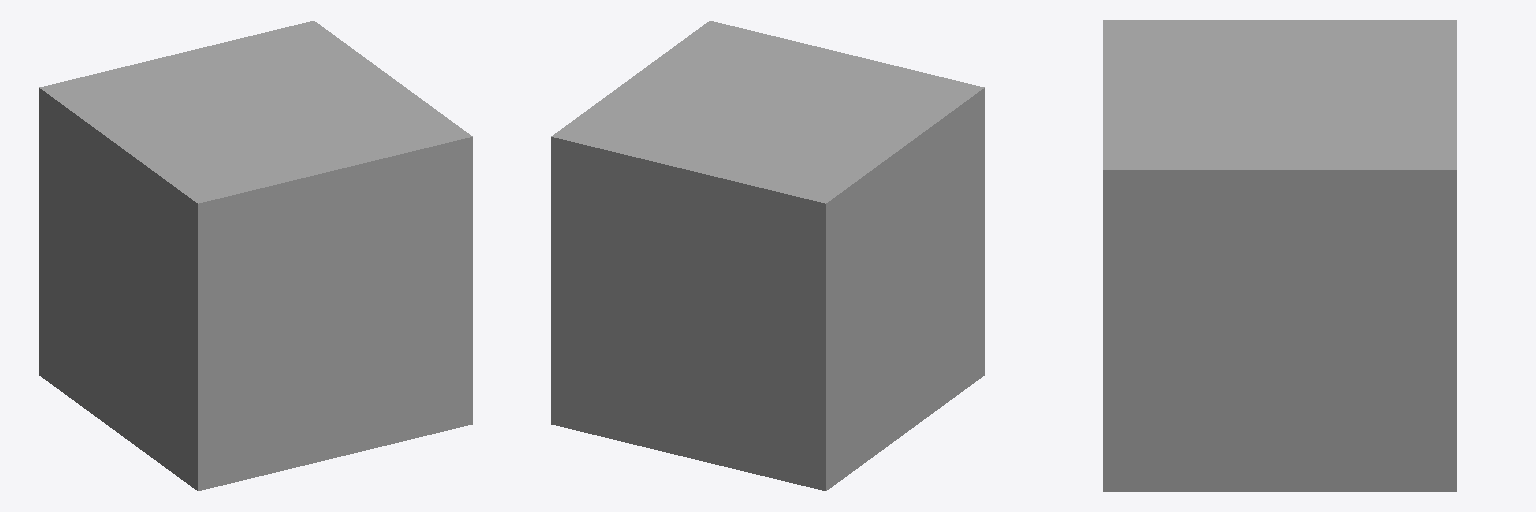
URDF robot description (dynaarm):
<?xml version="1.0" ?>
<!-- =================================================================================== -->
<!-- |    This document was autogenerated by xacro from [local-path]/duatic/dev-workspace/src/dynaarm_description/dynaarm_standalone_description/resource/urdf/../xacro/dynaarm_standalone.urdf.xacro | -->
<!-- |    EDITING THIS FILE BY HAND IS NOT RECOMMENDED                                 | -->
<!-- =================================================================================== -->
<robot name="dynaarm">
  <link name="world"/>
  <joint name="joint_base" type="fixed">
    <parent link="world"/>
    <child link="dynaarm_base"/>
    <origin rpy="0 0 0" xyz="0 0 0.085"/>
    <limit effort="2000" lower="0" upper="0" velocity="0"/>
  </joint>
  <link name="dynaarm_base">
    <visual>
      <geometry>
        <mesh filename="file://[local-path]/duatic/dev-workspace/install/dynaarm_description_common/share/dynaarm_description_common/resource/meshes/base_detailed_mesh.dae" scale="1.0 1.0 1.0"/>
      </geometry>
    </visual>
    <inertial>
      <mass value="1.894"/>
      <origin rpy="0 0 0" xyz="8.222640999999999e-06 -0.000310936808 -0.036738569268"/>
      <inertia ixx="0.0027672584741849997" ixy="3.9341411499999997e-07" ixz="-1.49570272e-07" iyy="0.0028951601054409996" iyz="2.532409214e-05" izz="0.003138952392041"/>
    </inertial>
  </link>
  <!-- Fixed joint to add dummy inertia link -->
  <joint name="dynaarm_base_to_dynaarm_base_inertia" type="fixed">
    <parent link="dynaarm_base"/>
    <child link="dynaarm_base_inertia"/>
    <origin rpy="0 0 0" xyz="0 0 0"/>
  </joint>
  <!-- Dummy inertia link, because KDL cannot have inertia on the base link -->
  <link name="dynaarm_base_inertia">
    <inertial>
      <mass value="1.894"/>
      <origin rpy="0 0 0" xyz="8.222640999999999e-06 -0.000310936808 -0.036738569268"/>
      <inertia ixx="0.0027672584741849997" ixy="3.9341411499999997e-07" ixz="-1.49570272e-07" iyy="0.0028951601054409996" iyz="2.532409214e-05" izz="0.003138952392041"/>
    </inertial>
  </link>
  <link name="dynaarm_SHOULDER">
    <visual>
      <geometry>
        <mesh filename="file://[local-path]/duatic/dev-workspace/install/dynaarm_description_common/share/dynaarm_description_common/resource/meshes/shoulder_detailed_mesh.dae" scale="1.0 1.0 1.0"/>
      </geometry>
    </visual>
    <inertial>
      <mass value="2.644"/>
      <origin rpy="0 0 0" xyz="0.0 0.0 -0.0017336"/>
      <inertia ixx="0.010301209999999998" ixy="-5.0849999999999996e-05" ixz="0.0" iyy="0.0030164999999999997" iyz="0.0" izz="0.01009904"/>
    </inertial>
    <collision>
      <origin rpy="1.57 0 0" xyz="0 0 0"/>
      <geometry>
        <cylinder length="0.24" radius="0.05"/>
      </geometry>
    </collision>
  </link>
  <link name="dynaarm_UPPERARM">
    <visual>
      <geometry>
        <mesh filename="file://[local-path]/duatic/dev-workspace/install/dynaarm_description_common/share/dynaarm_description_common/resource/meshes/upperarm_detailed_mesh.dae" scale="1.0 1.0 1.0"/>
      </geometry>
    </visual>
    <inertial>
      <mass value="1.394"/>
      <origin rpy="0 0 0" xyz="0.21109 2.2e-05 -0.000317"/>
      <inertia ixx="0.00116179" ixy="-7.2e-07" ixz="-0.00014044999999999997" iyy="0.046092126" iyz="7e-09" izz="0.04627953"/>
    </inertial>
    <collision>
      <origin rpy="1.57 0 1.57" xyz="0.25 0 0"/>
      <geometry>
        <cylinder length="0.4" radius="0.05"/>
      </geometry>
    </collision>
  </link>
  <link name="dynaarm_ELBOW">
    <visual>
      <geometry>
        <mesh filename="file://[local-path]/duatic/dev-workspace/install/dynaarm_description_common/share/dynaarm_description_common/resource/meshes/elbow_detailed_mesh.dae" scale="1.0 1.0 1.0"/>
      </geometry>
    </visual>
    <inertial>
      <mass value="1.1"/>
      <origin rpy="0 0 0" xyz="0.0068 -0.0848 -0.0006"/>
      <inertia ixx="0.0013843" ixy="-4.16e-05" ixz="8.5e-06" iyy="0.0007168" iyz="-1.05e-05" izz="0.0011300999999999998"/>
    </inertial>
    <collision>
      <origin rpy="0 1.57 0" xyz="0.185 -0.0935 0"/>
      <geometry>
        <cylinder length="0.46" radius="0.047"/>
      </geometry>
    </collision>
  </link>
  <link name="dynaarm_FOREARM">
    <visual>
      <geometry>
        <mesh filename="file://[local-path]/duatic/dev-workspace/install/dynaarm_description_common/share/dynaarm_description_common/resource/meshes/forearm_detailed_mesh.dae" scale="1.0 1.0 1.0"/>
      </geometry>
    </visual>
    <inertial>
      <mass value="0.342"/>
      <origin rpy="0 0 0" xyz="0.0 0.0 0.2143"/>
      <inertia ixx="0.006999999999999999" ixy="0.0" ixz="0.0" iyy="0.006999999999999999" iyz="0.0" izz="0.0063999999999999994"/>
    </inertial>
  </link>
  <joint name="SH_ROT" type="revolute">
    <parent link="dynaarm_base"/>
    <child link="dynaarm_SHOULDER"/>
    <axis xyz="0 0 1"/>
    <limit command_effort="40" current="10" effort="40" gear_velocity="4" lower="-4.7123889803850005" upper="4.7123889803850005" velocity="4"/>
    <!-- limit effort also defines torque limit and freeze controller gains -->
    <origin rpy="0 0 0" xyz="0 0 0.06"/>
  </joint>
  <joint name="SH_FLE" type="revolute">
    <parent link="dynaarm_SHOULDER"/>
    <child link="dynaarm_UPPERARM"/>
    <axis xyz="0 0 -1"/>
    <limit command_effort="40" current="10" effort="40" gear_velocity="4" lower="-1.870796326795" upper="1.870796326795" velocity="4"/>
    <!-- limit effort also defines torque limit and freeze controller gains -->
    <origin rpy="1.570796326795 -1.570796326795 0" xyz="0 0 0.0"/>
  </joint>
  <joint name="EL_FLE" type="revolute">
    <parent link="dynaarm_UPPERARM"/>
    <child link="dynaarm_ELBOW"/>
    <axis xyz="0 0 1"/>
    <limit command_effort="40" current="10" effort="40" gear_velocity="4" lower="-3.14159265359" upper="3.14159265359" velocity="4"/>
    <!-- limit effort also defines torque limit and freeze controller gains -->
    <origin rpy="3.14159265359 0 0" xyz="0.412 0 0"/>
  </joint>
  <joint name="FA_ROT" type="revolute">
    <parent link="dynaarm_ELBOW"/>
    <child link="dynaarm_FOREARM"/>
    <axis xyz="0 0 1"/>
    <limit command_effort="40" current="10" effort="40" gear_velocity="4" lower="-4.7123889803850005" upper="4.7123889803850005" velocity="4"/>
    <!-- limit effort also defines torque limit and freeze controller gains -->
    <origin rpy="1.570796326795 0 1.570796326795" xyz="0.0325 -0.092 0"/>
  </joint>
  <link name="dynaarm_END_EFFECTOR">
    <visual>
      <origin rpy="0 0 0" xyz="0 0 0"/>
      <geometry>
        <box size="0.001 0.001 0.001"/>
      </geometry>
    </visual>
    <inertial>
      <origin rpy="0 0 0" xyz="0.0 0.0 0.0"/>
      <mass value="0.02"/>
      <inertia ixx="0.01" ixy="0.0" ixz="0.0" iyy="0.01" iyz="0.0" izz="0.01"/>
    </inertial>
  </link>
  <gazebo reference="dynaarm_END_EFFECTOR">
    <kp>10000.0</kp>
    <kd>10.0</kd>
    <mu1>0.8</mu1>
    <mu2>0.8</mu2>
  </gazebo>
  <joint name="ee_fix_joint" type="fixed">
    <parent link="dynaarm_FOREARM"/>
    <child link="dynaarm_END_EFFECTOR"/>
    <origin rpy="0.0 0.0 1.570796326795" xyz="0.0 0.0 0.25"/>
    <limit effort="2000" lower="0" upper="0" velocity="0"/>
  </joint>
  <ros2_control name="DynaarmSystem" type="system">
    <hardware>
      <plugin>dynaarm_mock_hardware_interface/DynaarmMockHardwareInterface</plugin>
    </hardware>
    <joint name="SH_ROT">
      <param name="address">1</param>
      <state_interface name="position"/>
      <state_interface name="velocity"/>
      <state_interface name="effort"/>
      <state_interface name="position_commanded"/>
      <state_interface name="velocity_commanded"/>
      <state_interface name="effort_commanded"/>
      <state_interface name="p_gain_commanded"/>
      <state_interface name="i_gain_commanded"/>
      <state_interface name="d_gain_commanded"/>
      <state_interface name="motor_position"/>
      <state_interface name="motor_velocity"/>
      <state_interface name="motor_effort"/>
      <state_interface name="motor_position_commanded"/>
      <state_interface name="motor_velocity_commanded"/>
      <state_interface name="motor_effort_commanded"/>
      <state_interface name="motor_temperature_system"/>
      <state_interface name="motor_temperature_coil_A"/>
      <state_interface name="motor_temperature_coil_B"/>
      <state_interface name="motor_temperature_coil_C"/>
      <state_interface name="motor_bus_voltage"/>
      <state_interface name="command_freeze_mode"/>
      <command_interface name="position"/>
      <command_interface name="velocity"/>
      <command_interface name="effort"/>
      <command_interface name="p_gain"/>
      <command_interface name="i_gain"/>
      <command_interface name="d_gain"/>
      <command_interface name="command_freeze_mode"/>
    </joint>
    <joint name="SH_FLE">
      <param name="address">2</param>
      <state_interface name="position"/>
      <state_interface name="velocity"/>
      <state_interface name="effort"/>
      <state_interface name="position_commanded"/>
      <state_interface name="velocity_commanded"/>
      <state_interface name="effort_commanded"/>
      <state_interface name="p_gain_commanded"/>
      <state_interface name="i_gain_commanded"/>
      <state_interface name="d_gain_commanded"/>
      <state_interface name="motor_position"/>
      <state_interface name="motor_velocity"/>
      <state_interface name="motor_effort"/>
      <state_interface name="motor_position_commanded"/>
      <state_interface name="motor_velocity_commanded"/>
      <state_interface name="motor_effort_commanded"/>
      <state_interface name="motor_temperature_system"/>
      <state_interface name="motor_temperature_coil_A"/>
      <state_interface name="motor_temperature_coil_B"/>
      <state_interface name="motor_temperature_coil_C"/>
      <state_interface name="motor_bus_voltage"/>
      <state_interface name="command_freeze_mode"/>
      <command_interface name="position"/>
      <command_interface name="velocity"/>
      <command_interface name="effort"/>
      <command_interface name="p_gain"/>
      <command_interface name="i_gain"/>
      <command_interface name="d_gain"/>
      <command_interface name="command_freeze_mode"/>
    </joint>
    <joint name="EL_FLE">
      <param name="address">3</param>
      <state_interface name="position"/>
      <state_interface name="velocity"/>
      <state_interface name="effort"/>
      <state_interface name="position_commanded"/>
      <state_interface name="velocity_commanded"/>
      <state_interface name="effort_commanded"/>
      <state_interface name="p_gain_commanded"/>
      <state_interface name="i_gain_commanded"/>
      <state_interface name="d_gain_commanded"/>
      <state_interface name="motor_position"/>
      <state_interface name="motor_velocity"/>
      <state_interface name="motor_effort"/>
      <state_interface name="motor_position_commanded"/>
      <state_interface name="motor_velocity_commanded"/>
      <state_interface name="motor_effort_commanded"/>
      <state_interface name="motor_temperature_system"/>
      <state_interface name="motor_temperature_coil_A"/>
      <state_interface name="motor_temperature_coil_B"/>
      <state_interface name="motor_temperature_coil_C"/>
      <state_interface name="motor_bus_voltage"/>
      <state_interface name="command_freeze_mode"/>
      <command_interface name="position"/>
      <command_interface name="velocity"/>
      <command_interface name="effort"/>
      <command_interface name="p_gain"/>
      <command_interface name="i_gain"/>
      <command_interface name="d_gain"/>
      <command_interface name="command_freeze_mode"/>
    </joint>
    <joint name="FA_ROT">
      <param name="address">4</param>
      <state_interface name="position"/>
      <state_interface name="velocity"/>
      <state_interface name="effort"/>
      <state_interface name="position_commanded"/>
      <state_interface name="velocity_commanded"/>
      <state_interface name="effort_commanded"/>
      <state_interface name="p_gain_commanded"/>
      <state_interface name="i_gain_commanded"/>
      <state_interface name="d_gain_commanded"/>
      <state_interface name="motor_position"/>
      <state_interface name="motor_velocity"/>
      <state_interface name="motor_effort"/>
      <state_interface name="motor_position_commanded"/>
      <state_interface name="motor_velocity_commanded"/>
      <state_interface name="motor_effort_commanded"/>
      <state_interface name="motor_temperature_system"/>
      <state_interface name="motor_temperature_coil_A"/>
      <state_interface name="motor_temperature_coil_B"/>
      <state_interface name="motor_temperature_coil_C"/>
      <state_interface name="motor_bus_voltage"/>
      <state_interface name="command_freeze_mode"/>
      <command_interface name="position"/>
      <command_interface name="velocity"/>
      <command_interface name="effort"/>
      <command_interface name="p_gain"/>
      <command_interface name="i_gain"/>
      <command_interface name="d_gain"/>
      <command_interface name="command_freeze_mode"/>
    </joint>
  </ros2_control>
  <ros2control name="DynaarmGpioInterfacesSystem" type="system">
    <hardware>
      <plugin>mock_components/GenericSystem</plugin>
    </hardware>
    <gpio name="gpio_dynaarm_interfaces">
      <state_interface name="joystick_axis_0"/>
      <command_interface name="joystick_axis_0"/>
      <state_interface name="joystick_axis_1"/>
      <command_interface name="joystick_axis_1"/>
      <state_interface name="joystick_axis_2"/>
      <command_interface name="joystick_axis_2"/>
      <state_interface name="joystick_axis_3"/>
      <command_interface name="joystick_axis_3"/>
      <state_interface name="joystick_axis_4"/>
      <command_interface name="joystick_axis_4"/>
      <state_interface name="joystick_axis_5"/>
      <command_interface name="joystick_axis_5"/>
      <state_interface name="joystick_button_0"/>
      <command_interface name="joystick_button_0"/>
      <state_interface name="joystick_button_1"/>
      <command_interface name="joystick_button_1"/>
      <state_interface name="joystick_button_2"/>
      <command_interface name="joystick_button_2"/>
      <state_interface name="joystick_button_3"/>
      <command_interface name="joystick_button_3"/>
      <state_interface name="joystick_button_4"/>
      <command_interface name="joystick_button_4"/>
      <state_interface name="joystick_button_5"/>
      <command_interface name="joystick_button_5"/>
      <state_interface name="joystick_button_6"/>
      <command_interface name="joystick_button_6"/>
      <state_interface name="joystick_button_7"/>
      <command_interface name="joystick_button_7"/>
      <state_interface name="joystick_button_8"/>
      <command_interface name="joystick_button_8"/>
      <state_interface name="joystick_button_9"/>
      <command_interface name="joystick_button_9"/>
      <state_interface name="joystick_button_10"/>
      <command_interface name="joystick_button_10"/>
      <state_interface name="joystick_button_11"/>
      <command_interface name="joystick_button_11"/>
      <state_interface name="joystick_button_12"/>
      <command_interface name="joystick_button_12"/>
      <state_interface name="joystick_button_13"/>
      <command_interface name="joystick_button_13"/>
      <state_interface name="joystick_button_14"/>
      <command_interface name="joystick_button_14"/>
      <state_interface name="joystick_button_15"/>
      <command_interface name="joystick_button_15"/>
      <state_interface name="joystick_button_16"/>
      <command_interface name="joystick_button_16"/>
      <state_interface name="joystick_button_17"/>
      <command_interface name="joystick_button_17"/>
      <state_interface name="joystick_button_18"/>
      <command_interface name="joystick_button_18"/>
      <state_interface name="joystick_button_19"/>
      <command_interface name="joystick_button_19"/>
      <state_interface name="joystick_button_20"/>
      <command_interface name="joystick_button_20"/>
      <state_interface name="twist_linear_x"/>
      <command_interface name="twist_linear_x"/>
      <state_interface name="twist_linear_y"/>
      <command_interface name="twist_linear_y"/>
      <state_interface name="twist_linear_z"/>
      <command_interface name="twist_linear_z"/>
      <state_interface name="twist_angular_x"/>
      <command_interface name="twist_angular_x"/>
      <state_interface name="twist_angular_y"/>
      <command_interface name="twist_angular_y"/>
      <state_interface name="twist_angular_z"/>
      <command_interface name="twist_angular_z"/>
    </gpio>
  </ros2control>
</robot>

--- Facts derived from the render (not from the file) ---
Views: 3 orthographic renders of the robot side by side, from view 1: azimuth 30°, elevation 25°; view 2: azimuth 150°, elevation 25°; view 3: azimuth 270°, elevation 25°.
Robot: dynaarm — 8 links, 7 joints (4 revolute, 3 fixed); root link world; default pose: every joint at zero.
Links seen in each view (by area): view 1: dynaarm_END_EFFECTOR; view 2: dynaarm_END_EFFECTOR; view 3: dynaarm_END_EFFECTOR.
Boxes of the visible links, x1=… form: dynaarm_END_EFFECTOR: x1=39, y1=21, x2=472, y2=490; dynaarm_END_EFFECTOR: x1=551, y1=21, x2=984, y2=490; dynaarm_END_EFFECTOR: x1=1103, y1=20, x2=1456, y2=491.
Size in the robot's own frame: 0.001 by 0.001 by 0.001 metres.
Geometry: only primitive shapes (box / cylinder / sphere) drawn; not drawn: 5 mesh visuals (reference in a form the renderer does not follow).